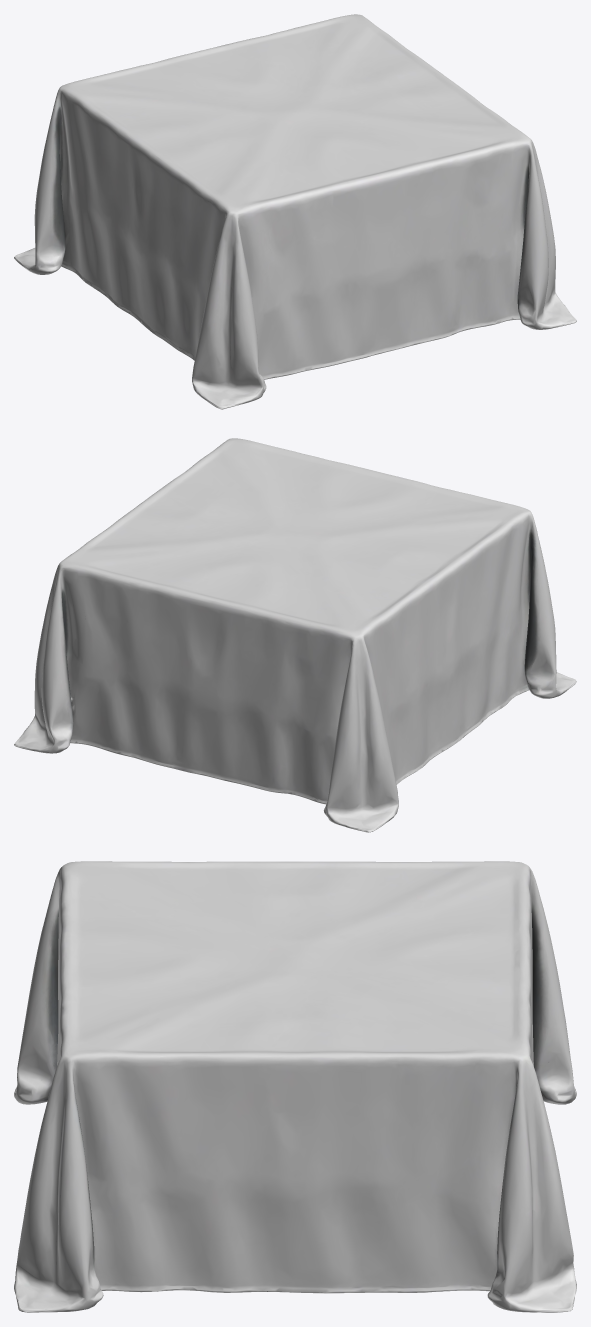
Rendered from table-square-160.glb.
3 views of the same model, one above another, from view 1: azimuth 30°, elevation 25°; view 2: azimuth 150°, elevation 25°; view 3: azimuth 270°, elevation 25° (orthographic). The views are drawn at different scales.
Visible parts, largest first — view 1: tripo_node_b71c8480-e4c6-4c0e-b9c4-e3822545a6be; view 2: tripo_node_b71c8480-e4c6-4c0e-b9c4-e3822545a6be; view 3: tripo_node_b71c8480-e4c6-4c0e-b9c4-e3822545a6be.
Part boxes in pixels (bbox=[...]): tripo_node_b71c8480-e4c6-4c0e-b9c4-e3822545a6be: bbox=[14, 14, 576, 409]; tripo_node_b71c8480-e4c6-4c0e-b9c4-e3822545a6be: bbox=[14, 438, 576, 832]; tripo_node_b71c8480-e4c6-4c0e-b9c4-e3822545a6be: bbox=[14, 861, 576, 1312].
Bounding box in the file's own units: 1.6 × 0.75 × 1.6.
1 material, 1 textured.
